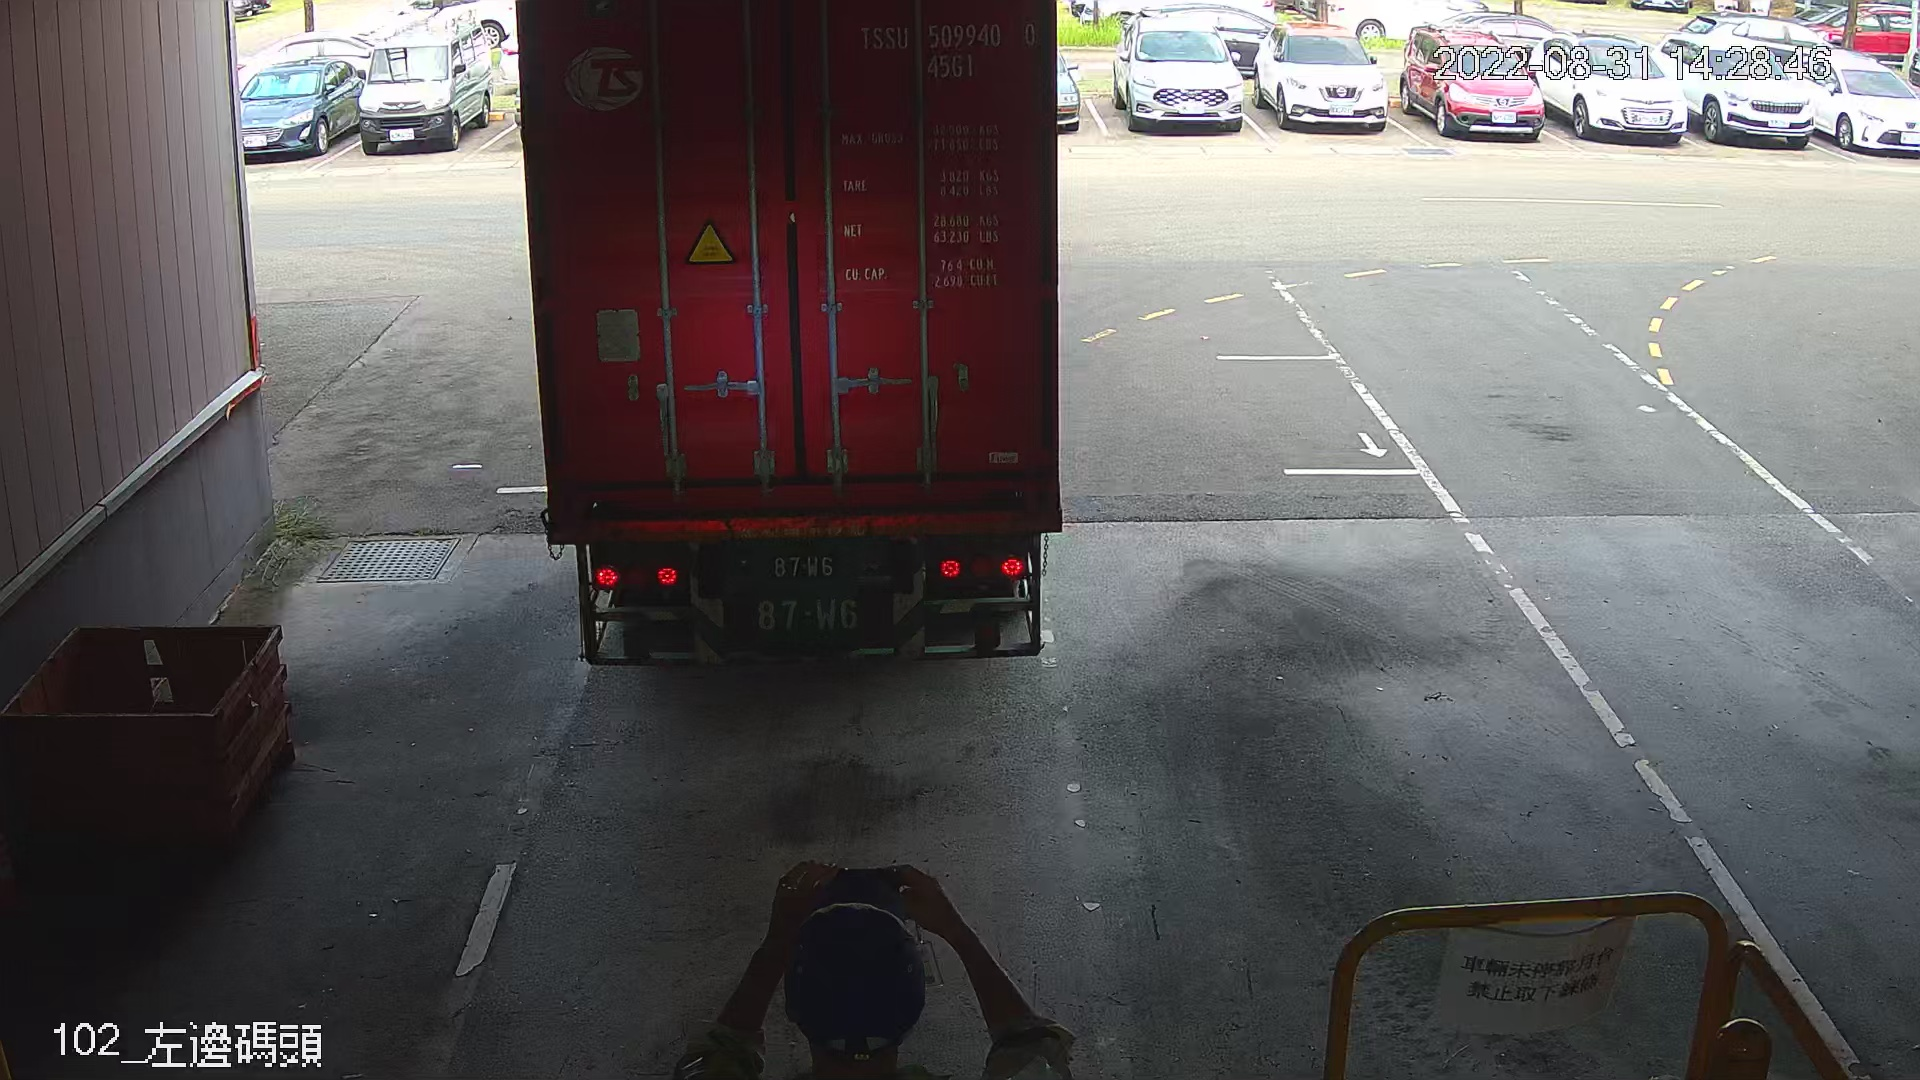container: (848, 13, 1044, 84)
